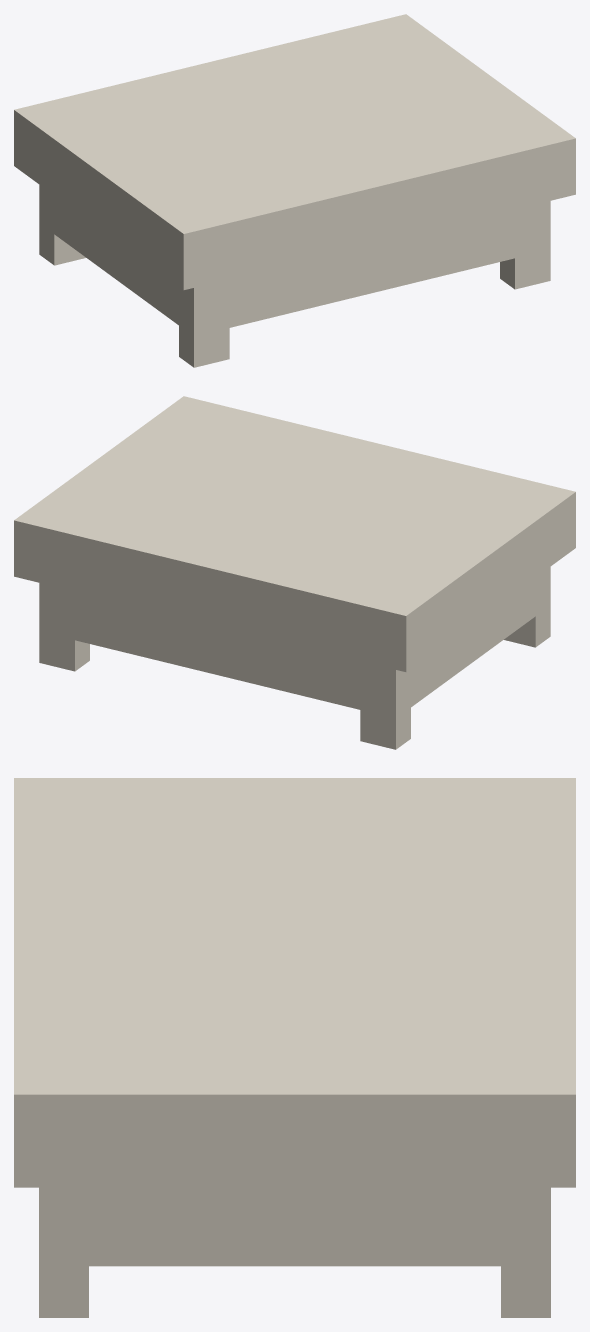
The model's file is pk_ott_cream.glb.
The picture shows the model from 3 angles, top to bottom: view 1: azimuth 30°, elevation 25°; view 2: azimuth 150°, elevation 25°; view 3: azimuth 270°, elevation 25°; orthographic projection. The views are drawn at different scales.
Visible parts, largest first — view 1: pk_ott_cream; view 2: pk_ott_cream; view 3: pk_ott_cream.
Boxes of the visible parts, box(x1,y1,x2,y2) form: pk_ott_cream: box(14, 14, 575, 367); pk_ott_cream: box(14, 396, 575, 749); pk_ott_cream: box(14, 778, 575, 1317).
Size of the model in its own units: 1.2 by 0.42 by 0.9.
1 material, 1 textured.
